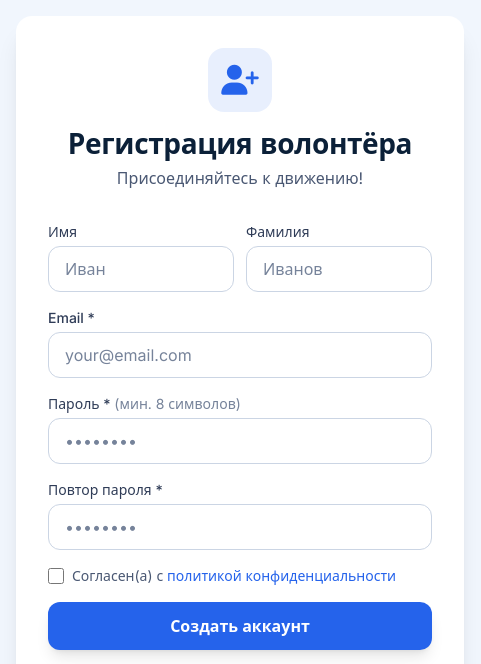
RegisterPage › 429 → neutral message instead of the success state
Type "  new.user@example.test " into the field with placeholder "your@email.com".
click(240, 355); type("  new.user@example.test ")  # box x1=48 y1=332 x2=432 y2=378
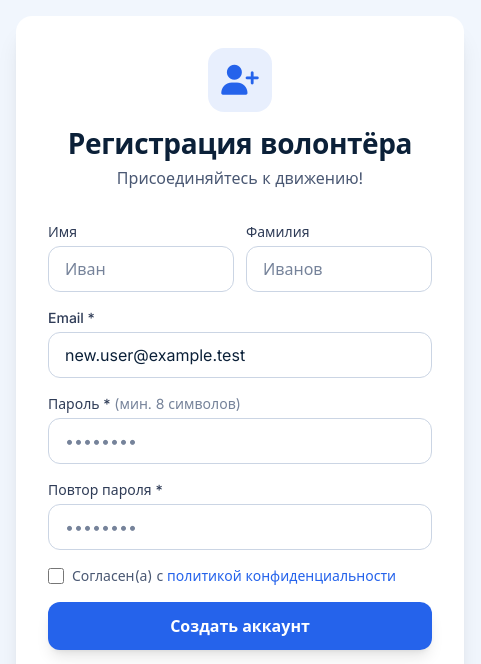
Type "Passw0rd-123" into the password field with placeholder "••••••••" below "Пароль *".
click(240, 441); type("Passw0rd-123")  # box x1=48 y1=418 x2=432 y2=464
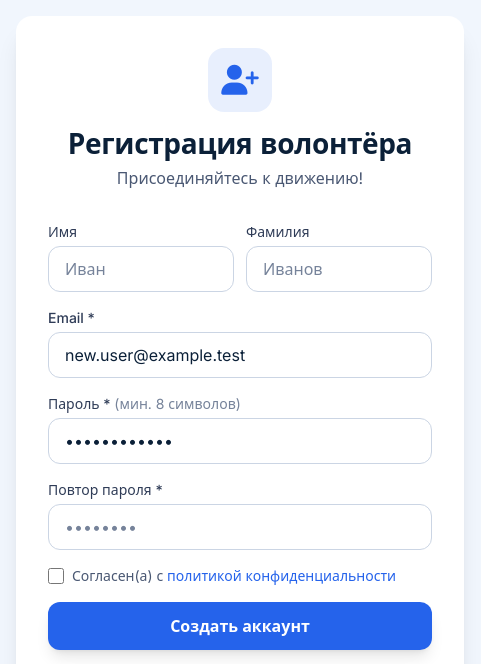
Type "Passw0rd-123" into the password field with placeholder "••••••••".
click(240, 527); type("Passw0rd-123")  # box x1=48 y1=504 x2=432 y2=550
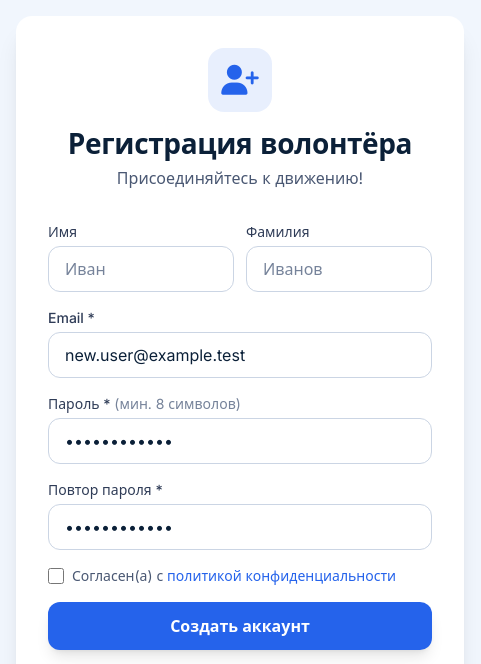
Click the checkbox.
click(56, 576)  # box x1=48 y1=568 x2=64 y2=584
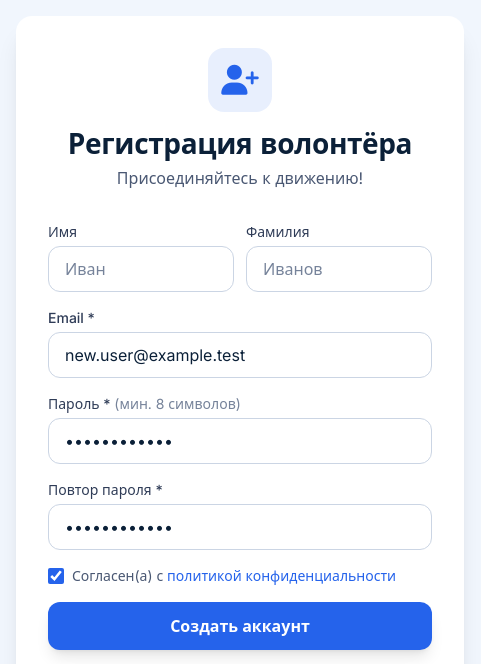
Click the button "Создать аккаунт".
click(240, 626)  # box x1=48 y1=602 x2=432 y2=650
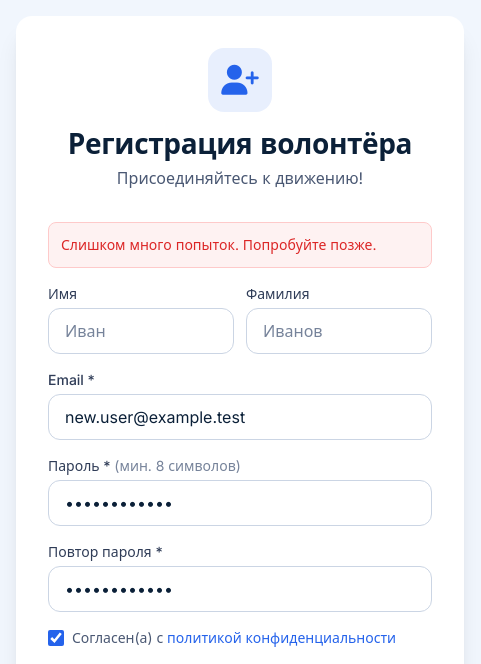
Check: the text "Слишком много попыток. Попробуйте позже." is shown, box x1=48 y1=222 x2=432 y2=268
